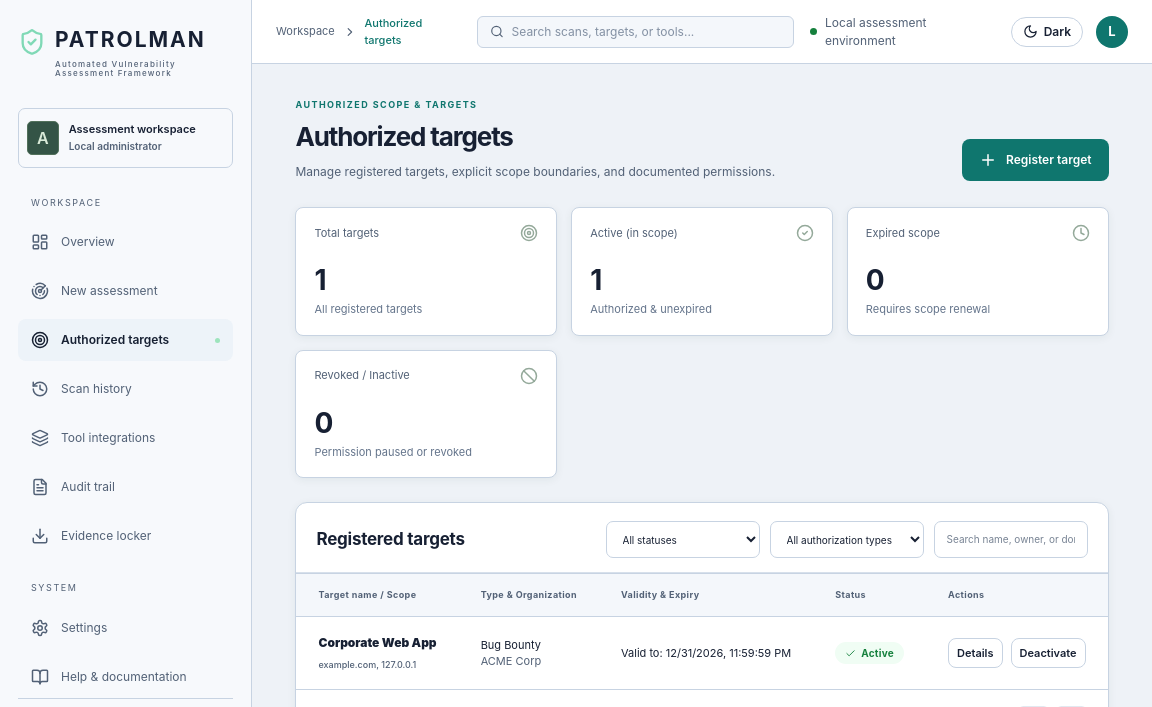
Authorized Targets Management › renders scope-import panel exactly once when multiple audit events exist
Step 1. Click the button "Details" → (975, 653), box left=948, top=638, right=1002, bottom=668
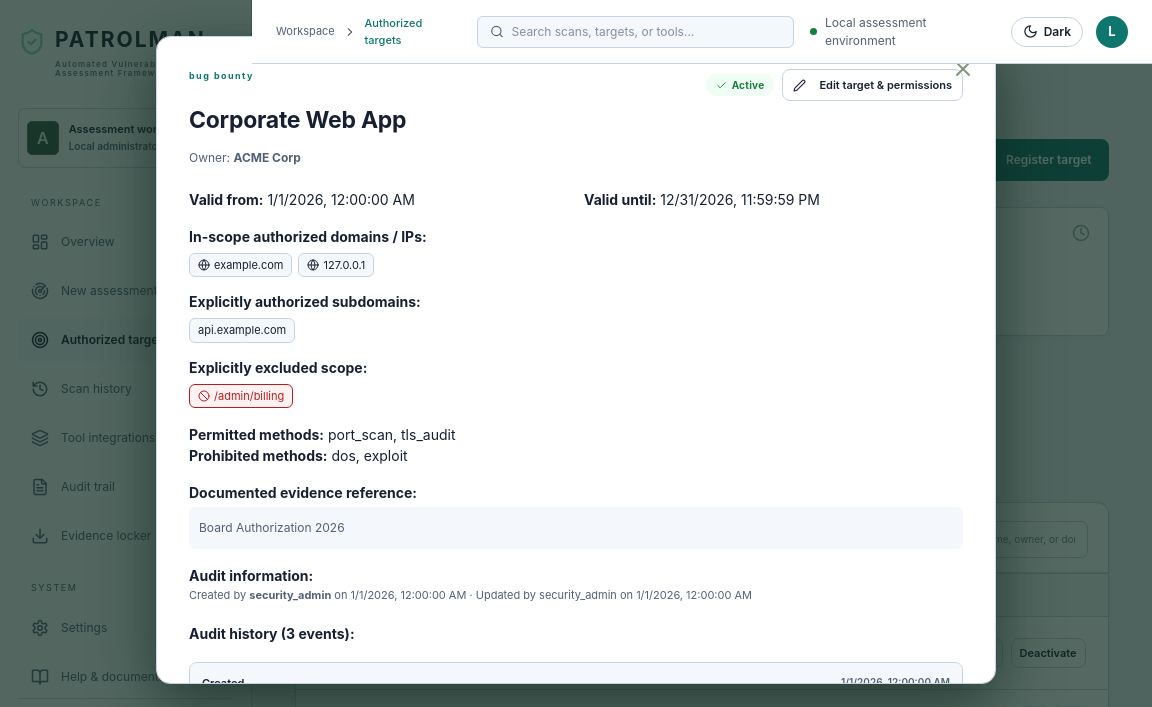
Expected: the text "Audit history (3 events):" is shown, left=189, top=626, right=355, bottom=642
